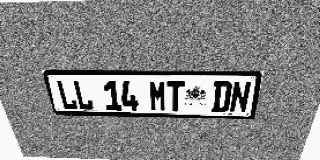1: (102, 80, 122, 111)
4: (119, 80, 139, 111)
D: (211, 81, 233, 113)
L: (55, 80, 78, 110), (72, 80, 94, 110)
M: (149, 80, 167, 111)
N: (229, 81, 252, 113)
T: (167, 80, 185, 112)
